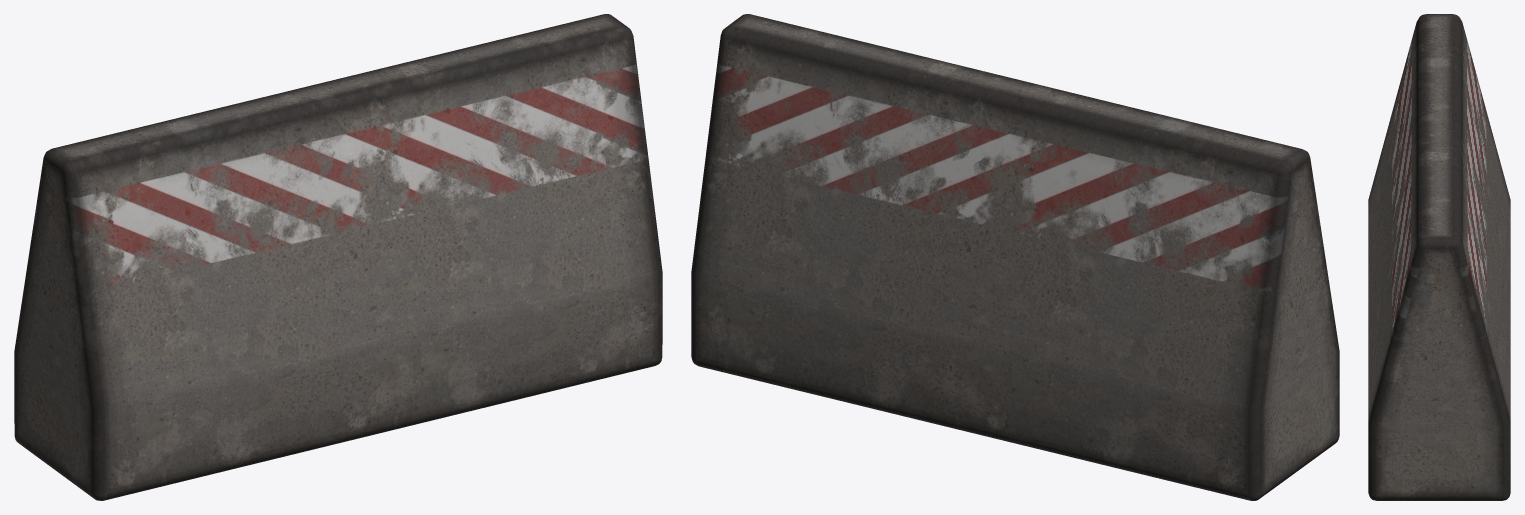
Rendered from 未命名.fbx.
The picture shows the model from 3 angles, left to right: view 1: azimuth 30°, elevation 25°; view 2: azimuth 150°, elevation 25°; view 3: azimuth 270°, elevation 25°; orthographic projection. The views are drawn at different scales.
Visible parts, largest first — view 1: Cube.004; view 2: Cube.004; view 3: Cube.004.
Part boxes in pixels (left/top/right/bottom): Cube.004: left=14, top=14, right=662, bottom=500; Cube.004: left=691, top=14, right=1339, bottom=500; Cube.004: left=1368, top=14, right=1510, bottom=500.
Size of the model in its own units: 20000 by 10649 by 5235.
1 material, 1 textured.
